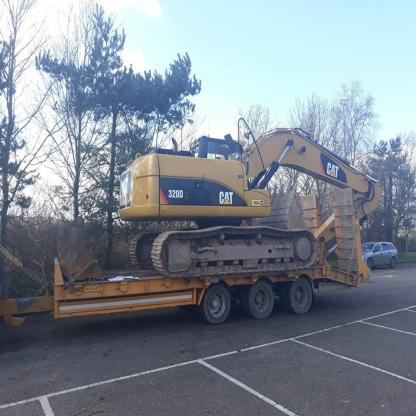excavator: (114, 100, 388, 284)
